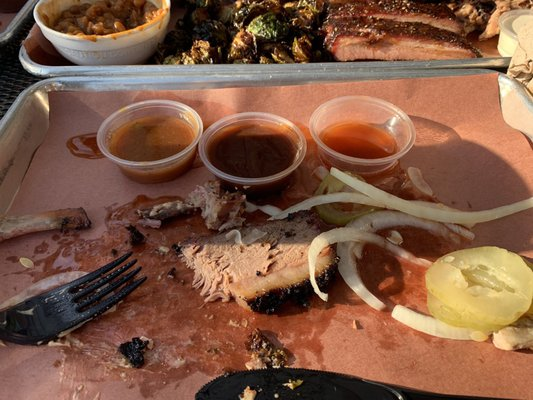burger: (0, 251, 147, 347)
pizza: (309, 94, 418, 198)
soup: (321, 0, 485, 62)
sushi: (198, 111, 307, 196), (32, 0, 171, 66), (96, 99, 203, 184)
